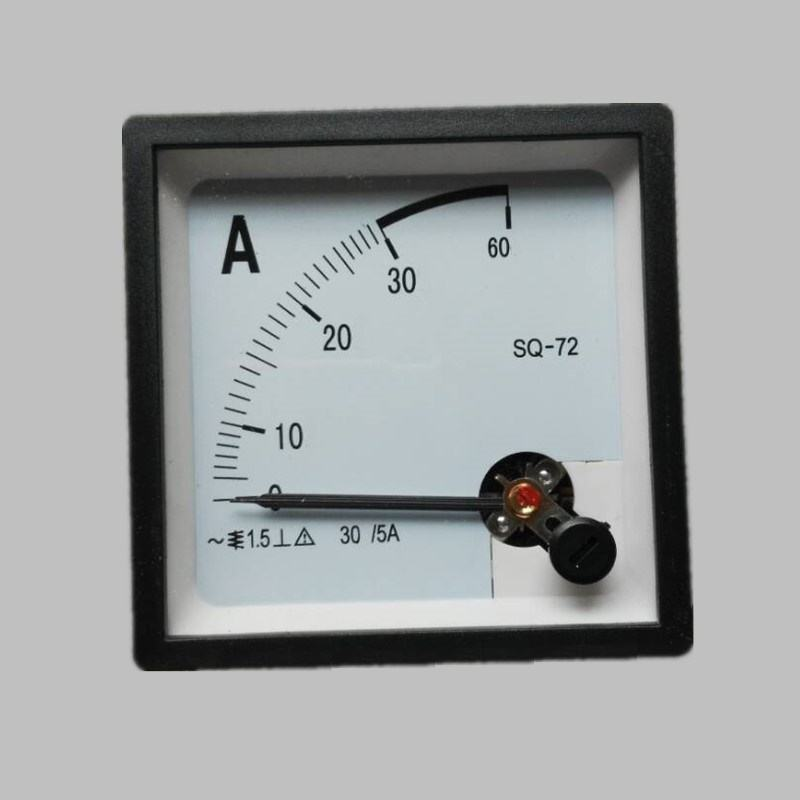pointer: (151, 136, 661, 641)
